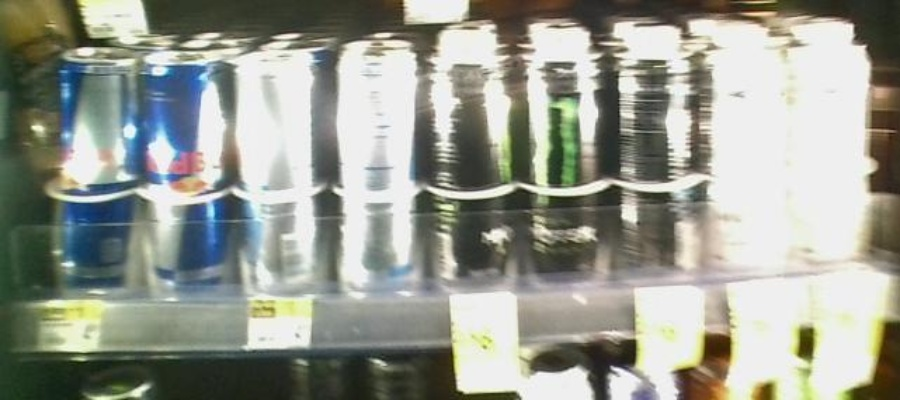bottle: (330, 34, 425, 304), (427, 27, 520, 289), (614, 26, 701, 284), (236, 40, 322, 294), (51, 43, 138, 294), (142, 49, 227, 304), (708, 24, 786, 286), (792, 20, 871, 277), (527, 33, 604, 291)
